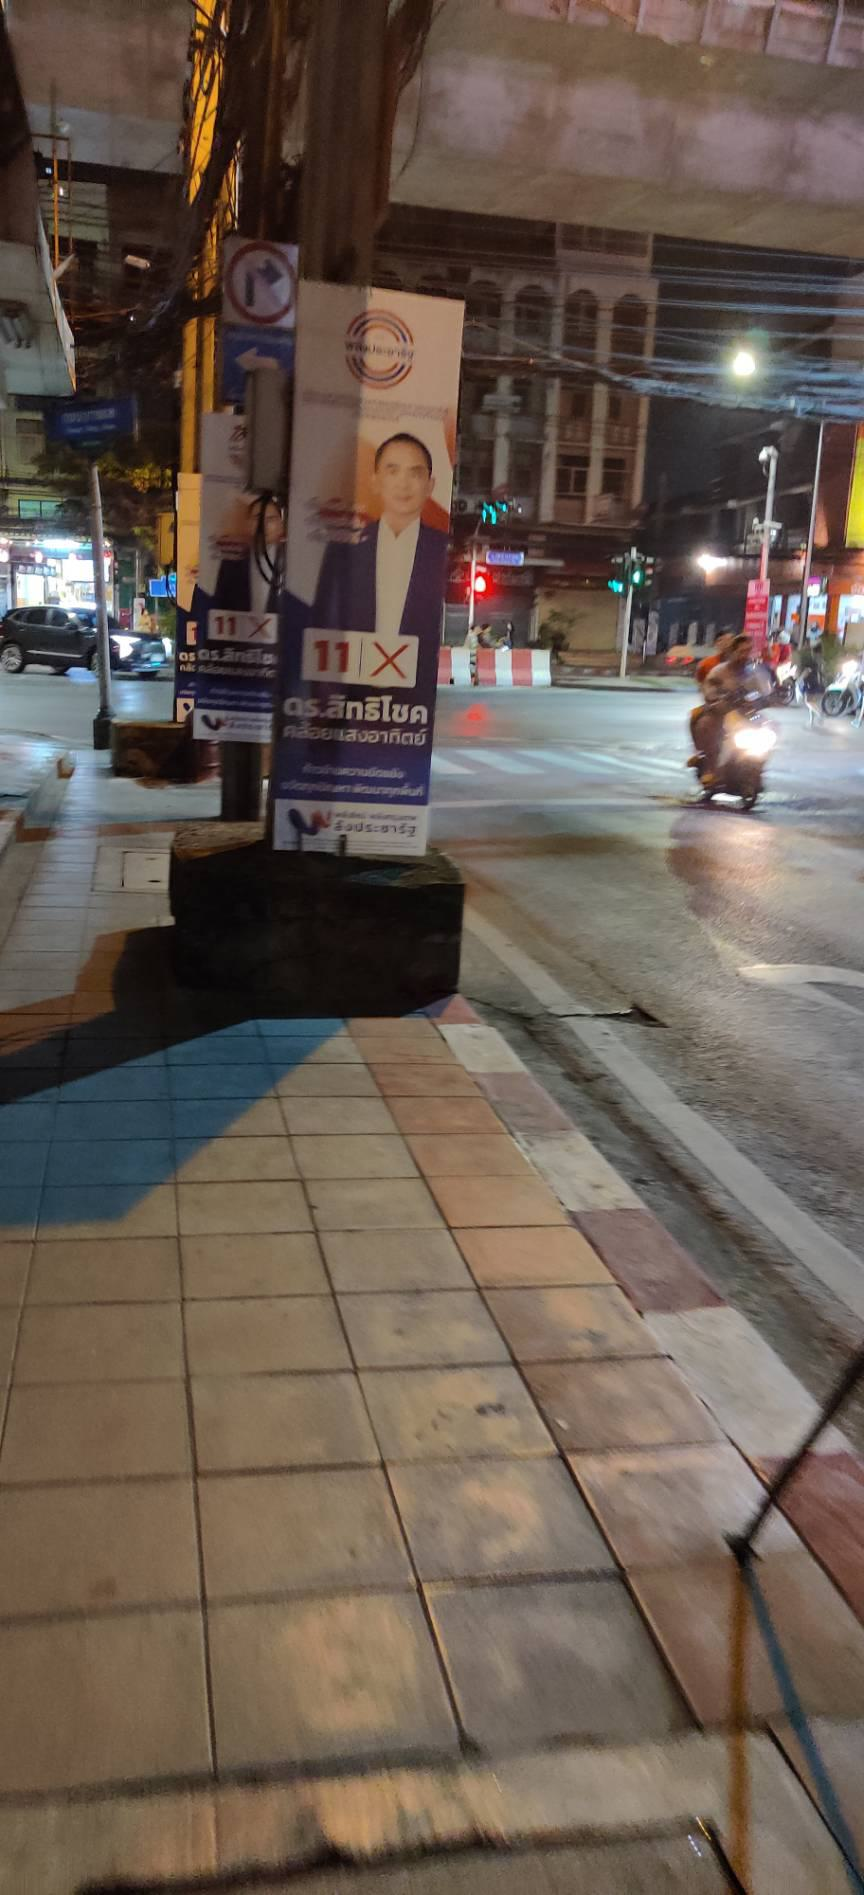Banner: (268, 296, 474, 862)
